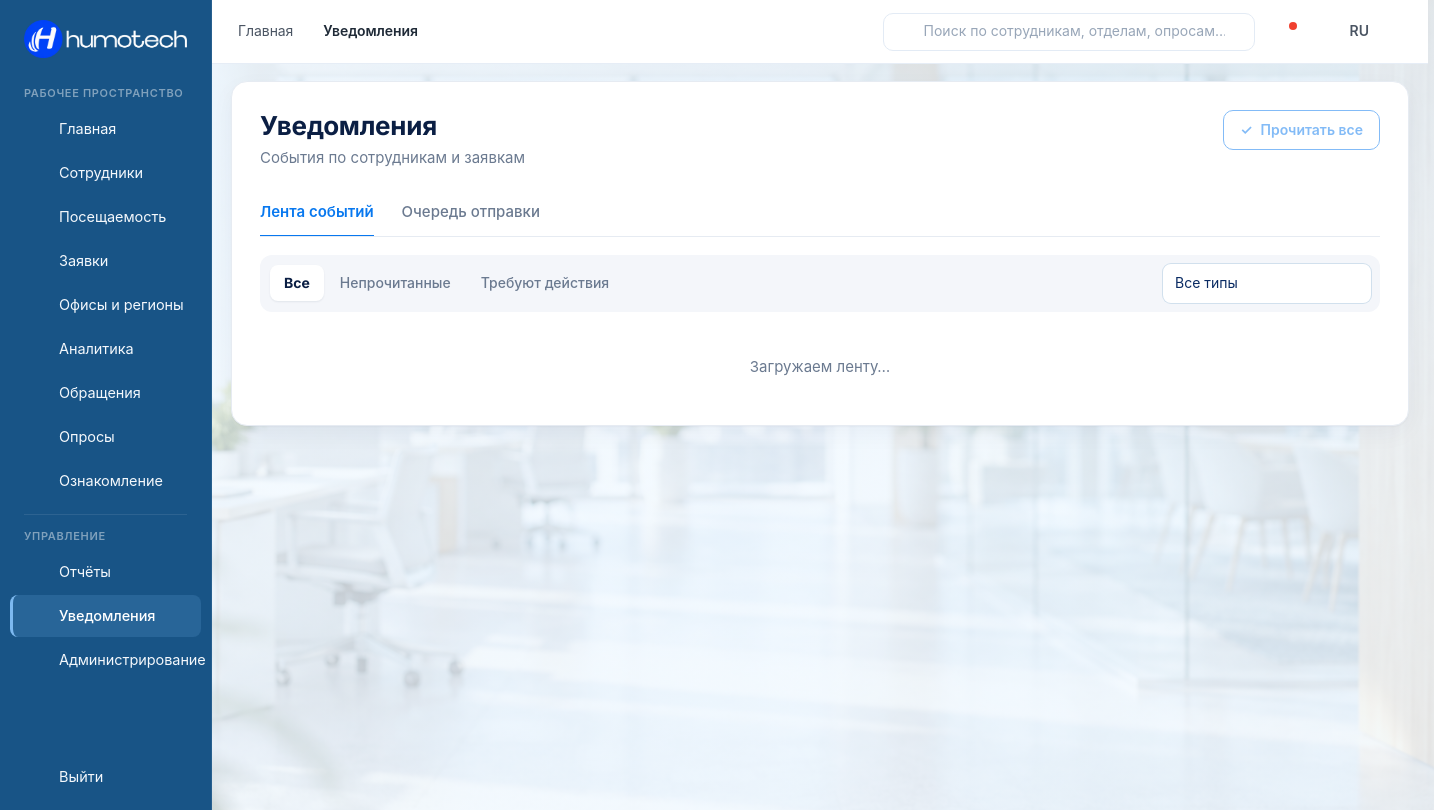
Test: лента событий › устаревший ответ не перезаписывает текущий отбор
Expected: the text "Загружаем ленту…" is shown, [750,357,890,376]
Click the button "Непрочитанные": coordinates (395, 283) [326,265,465,301]
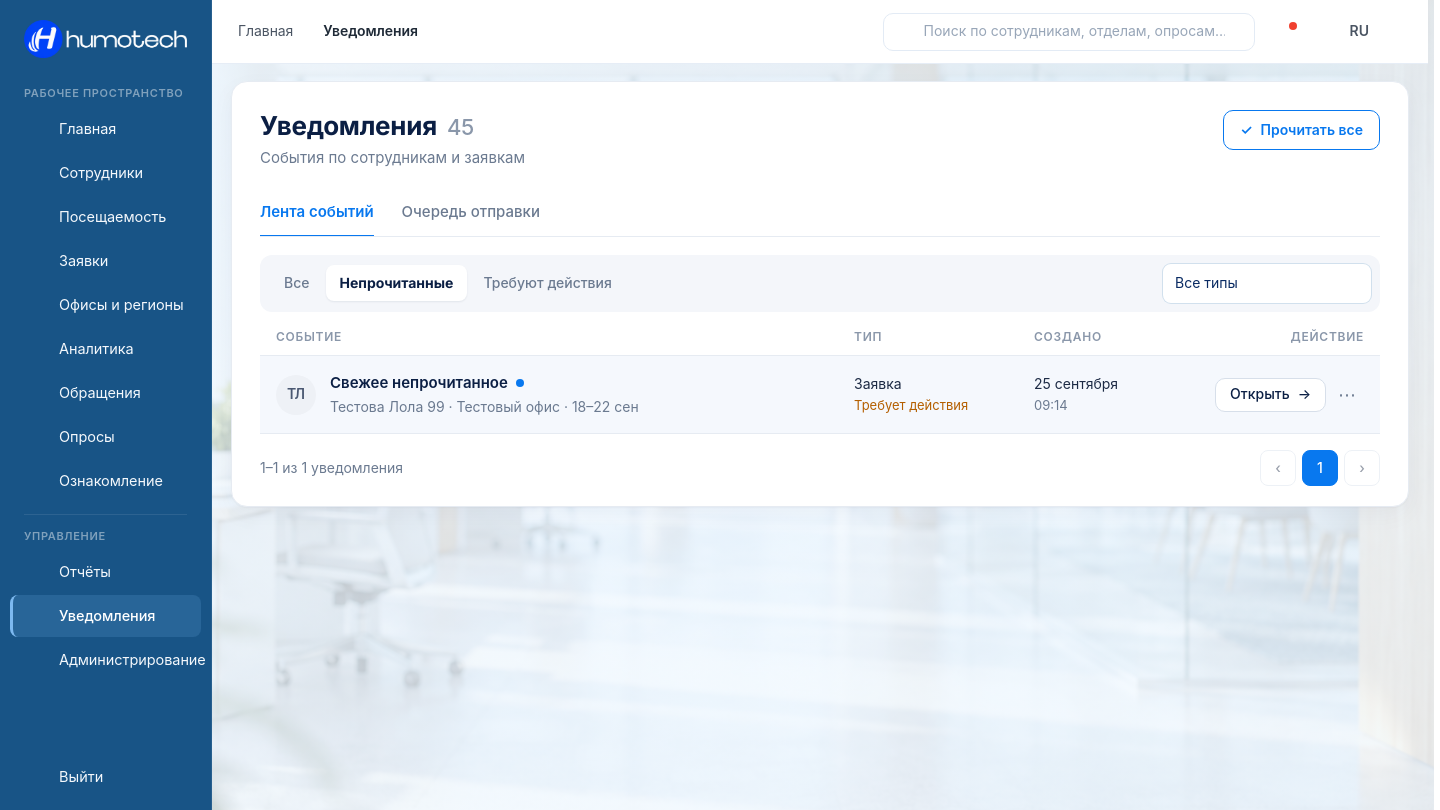
Expected: the text "Свежее непрочитанное" is shown, [330,372,508,394]
